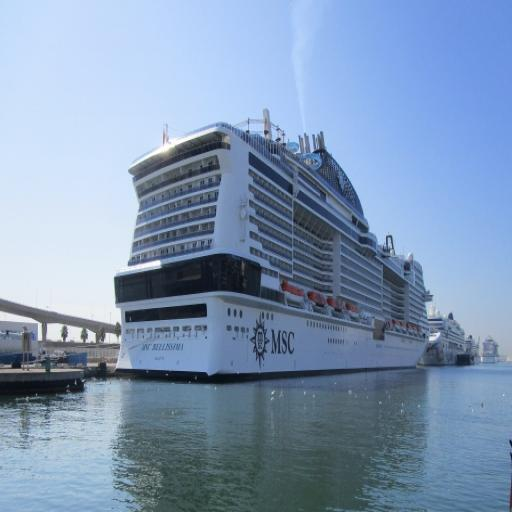cruises: (111, 114, 439, 391), (422, 304, 477, 382), (479, 332, 504, 373)
